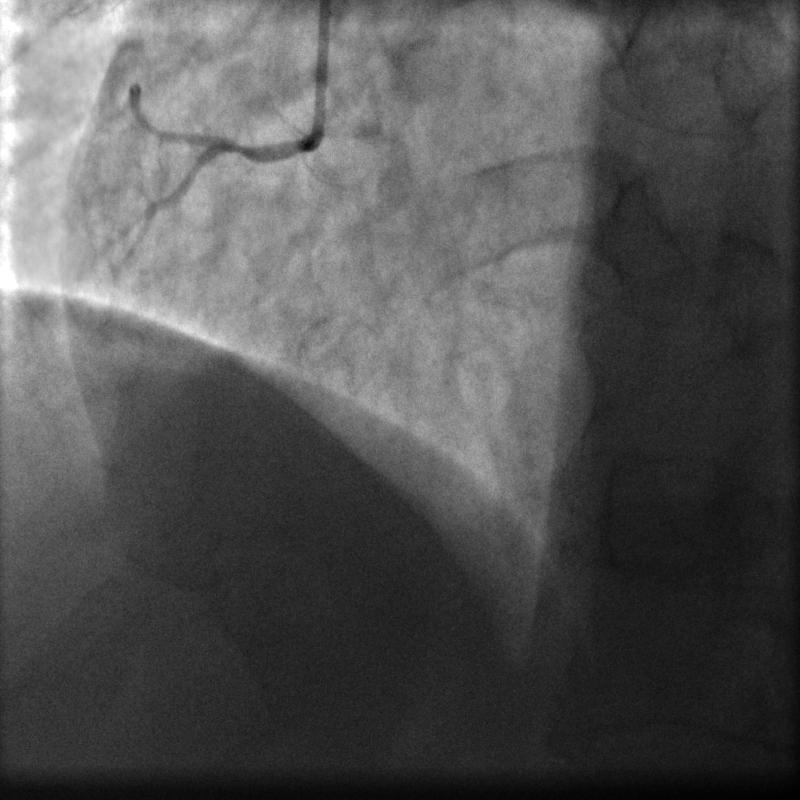Stenosis: (218, 124, 255, 174)
